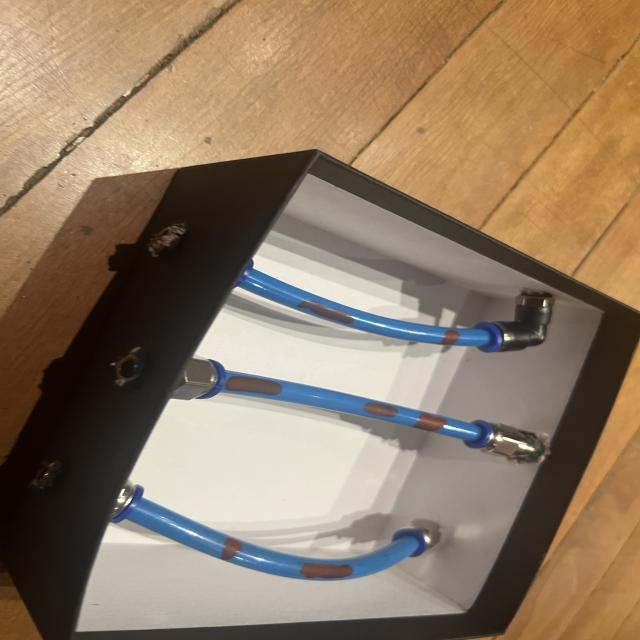hose_damage: (293, 297, 357, 327), (223, 374, 285, 398), (297, 560, 358, 580), (410, 411, 452, 435), (359, 400, 402, 420), (215, 537, 246, 564), (436, 327, 463, 347)
